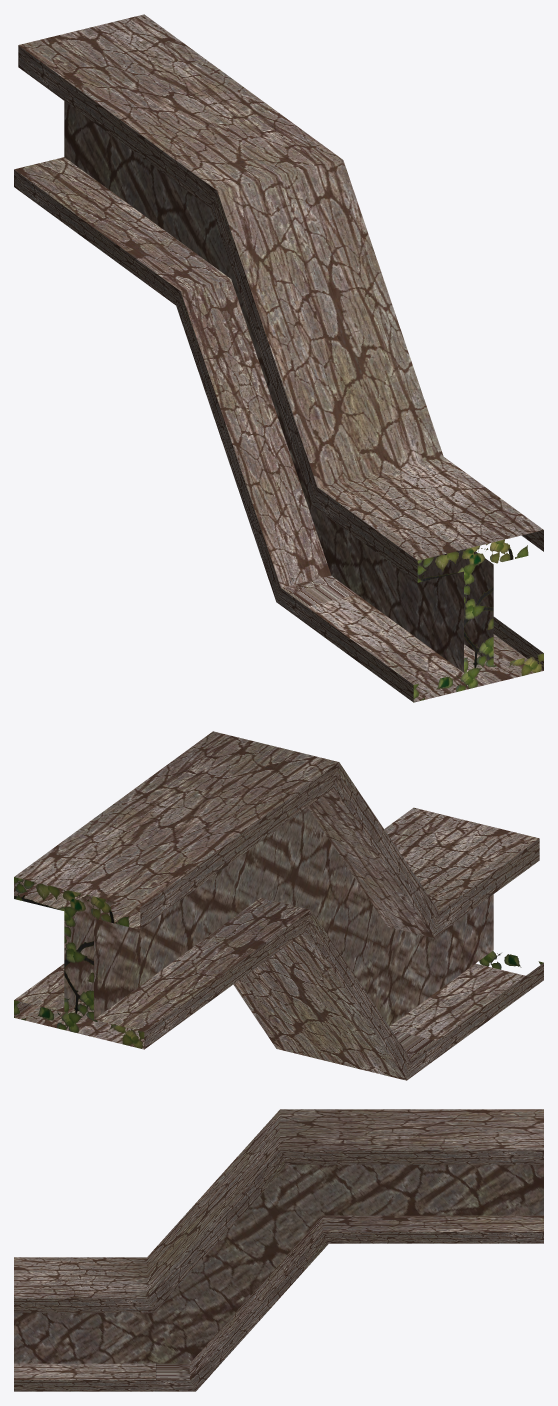
File: balk_z.FBX
The picture shows the model from 3 angles, top to bottom: view 1: azimuth 30°, elevation 25°; view 2: azimuth 150°, elevation 25°; view 3: azimuth 270°, elevation 25°; orthographic projection. The views are drawn at different scales.
Parts seen in each view (by area): view 1: balk_z; view 2: balk_z; view 3: balk_z.
Part boxes in pixels (x1,y1,x2,y2): balk_z: [14, 14, 543, 702]; balk_z: [14, 731, 543, 1080]; balk_z: [14, 1109, 543, 1391].
Size of the model in its own units: 3.1 by 16.46 by 8.27.
